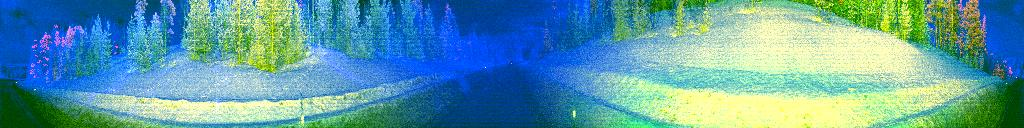pole: (568, 78, 580, 128), (297, 89, 307, 128)
